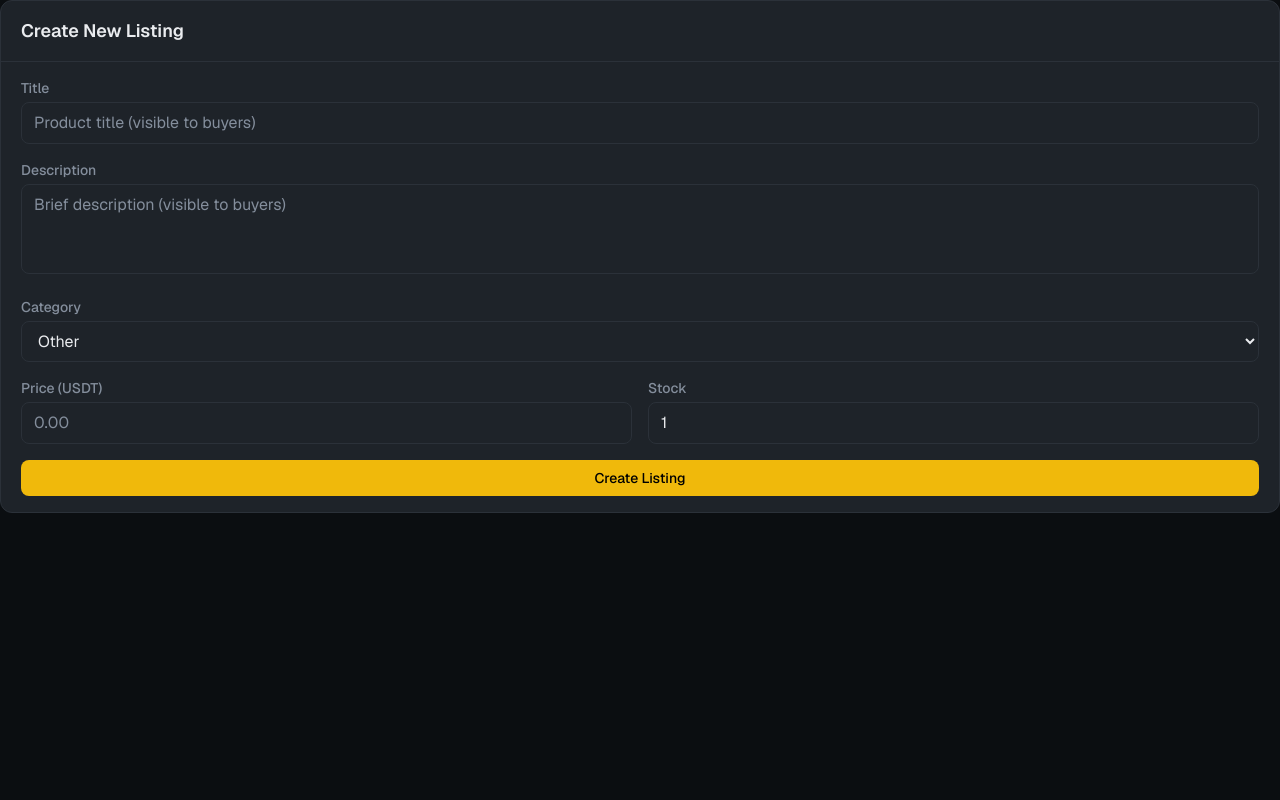
Test: ProductForm › shows title error on empty submit
This screenshot has width=1280, height=800.
Click the button "Create Listing".
click(640, 478)  # box [21,460,1259,496]
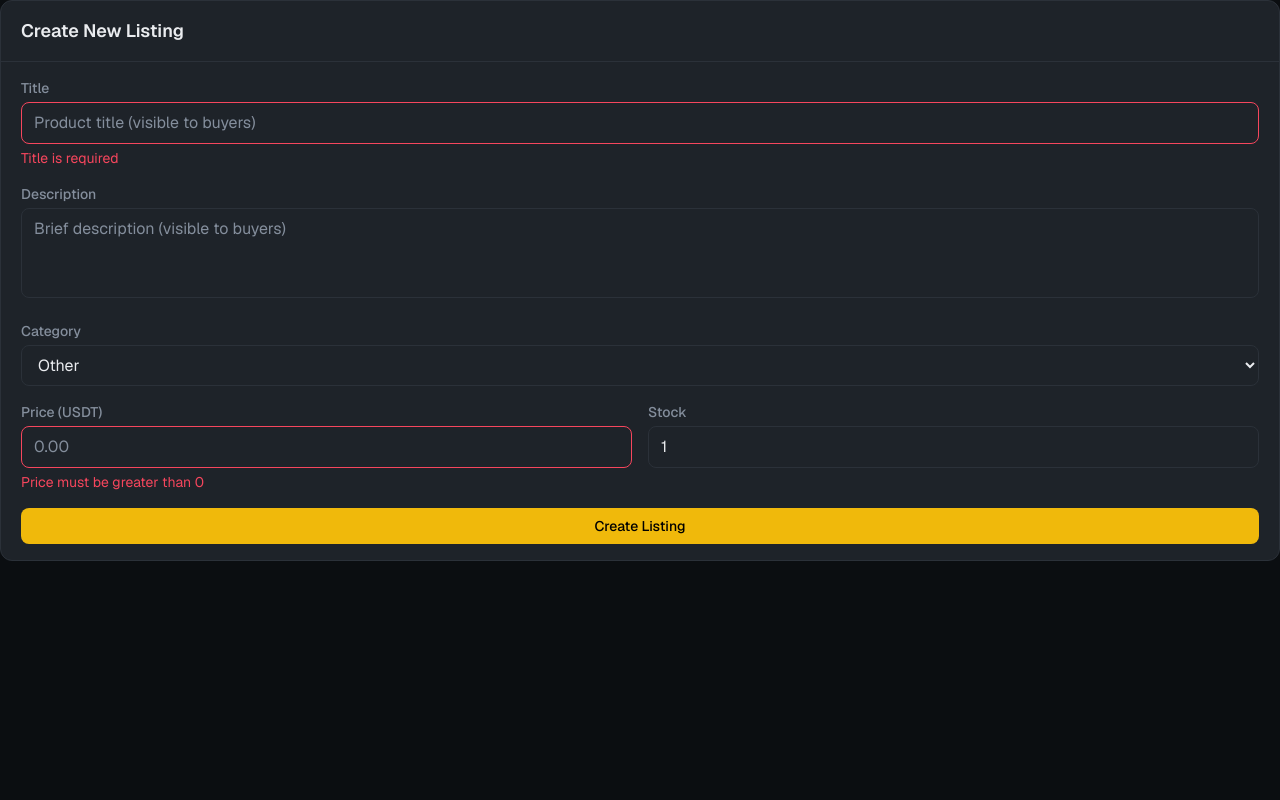
Check: the text "Title is required" is shown, box [21,149,119,167]
